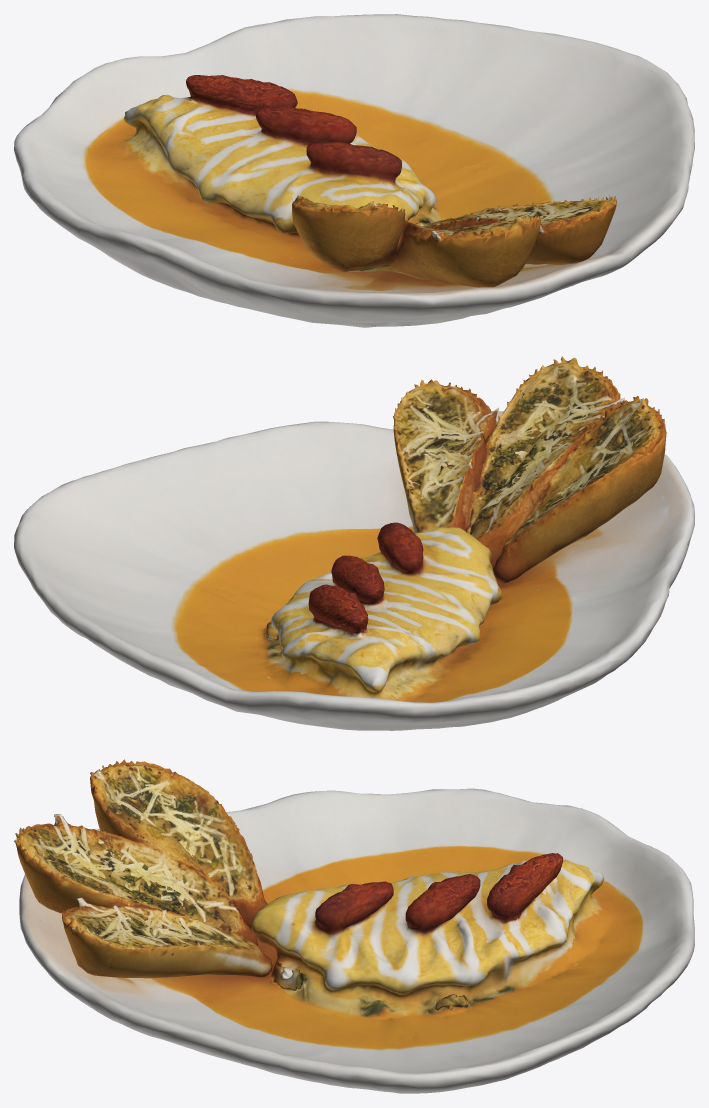
Rendered from omelette_di_formaggio.fbx.
The picture shows the model from 3 angles, top to bottom: view 1: azimuth 30°, elevation 25°; view 2: azimuth 150°, elevation 25°; view 3: azimuth 270°, elevation 25°; orthographic projection. The views are drawn at different scales.
Visible parts, largest first — view 1: meshes[0]; view 2: meshes[0]; view 3: meshes[0].
Boxes of the visible parts, x1,y1,x2,y2 form: meshes[0]: (14, 14, 694, 327); meshes[0]: (14, 356, 694, 730); meshes[0]: (14, 759, 694, 1093).
Bounding box in the file's own units: 99.8 × 26.76 × 99.8.
1 material, 1 textured.
